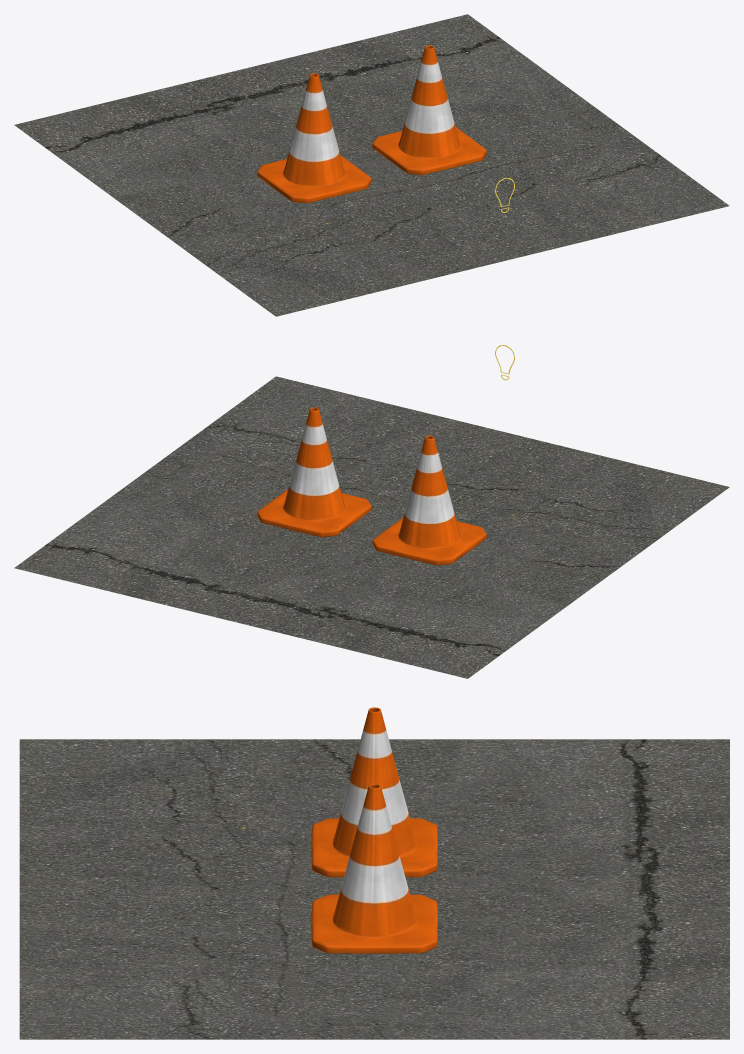
File: street.glb
3 views of the same model, one above another, from view 1: azimuth 30°, elevation 25°; view 2: azimuth 150°, elevation 25°; view 3: azimuth 270°, elevation 25° (orthographic). The views are drawn at different scales.
Visible parts, largest first — view 1: GroundPlane, Cone Retroreflection, Cone Normal; view 2: GroundPlane, Cone Normal, Cone Retroreflection; view 3: GroundPlane, Cone Normal, Cone Retroreflection.
Part boxes in pixels (x1,y1,x2,y2): GroundPlane: (14, 14, 729, 316); Cone Retroreflection: (257, 73, 371, 203); Cone Normal: (372, 45, 486, 174); GroundPlane: (14, 376, 729, 678); Cone Normal: (257, 407, 371, 537); Cone Retroreflection: (372, 435, 486, 565); GroundPlane: (19, 739, 729, 1039); Cone Normal: (311, 783, 437, 953); Cone Retroreflection: (311, 707, 437, 877).
Size of the model in its own units: 2.36 by 0.5193 by 2.38.
3 materials, 2 textured.
